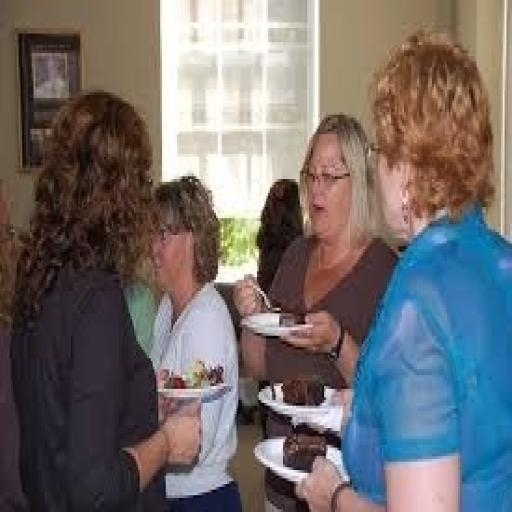eating: (8, 28, 508, 506), (7, 87, 205, 509)
